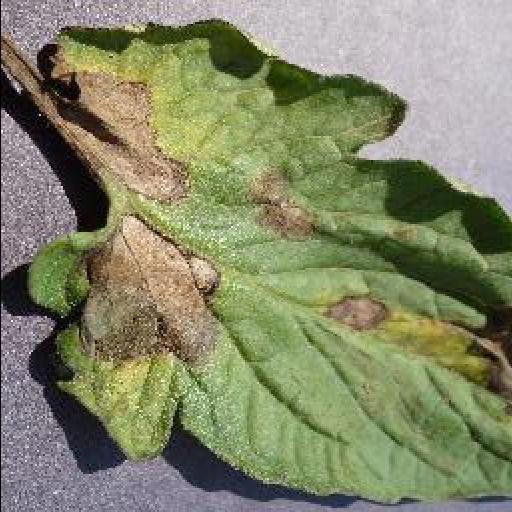disease_tomato: (24, 18, 512, 512)
